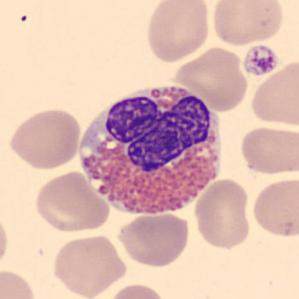Eosinophil: (72, 74, 231, 228)
Platelets: (241, 43, 280, 77)
RBC: (50, 232, 128, 298), (174, 45, 250, 112), (32, 170, 111, 234), (7, 106, 83, 172), (192, 177, 253, 251), (115, 210, 192, 268), (144, 0, 213, 64), (247, 56, 299, 128), (209, 0, 286, 48), (237, 124, 298, 176), (250, 176, 298, 239), (0, 267, 39, 299), (106, 281, 168, 299), (0, 210, 11, 272)
